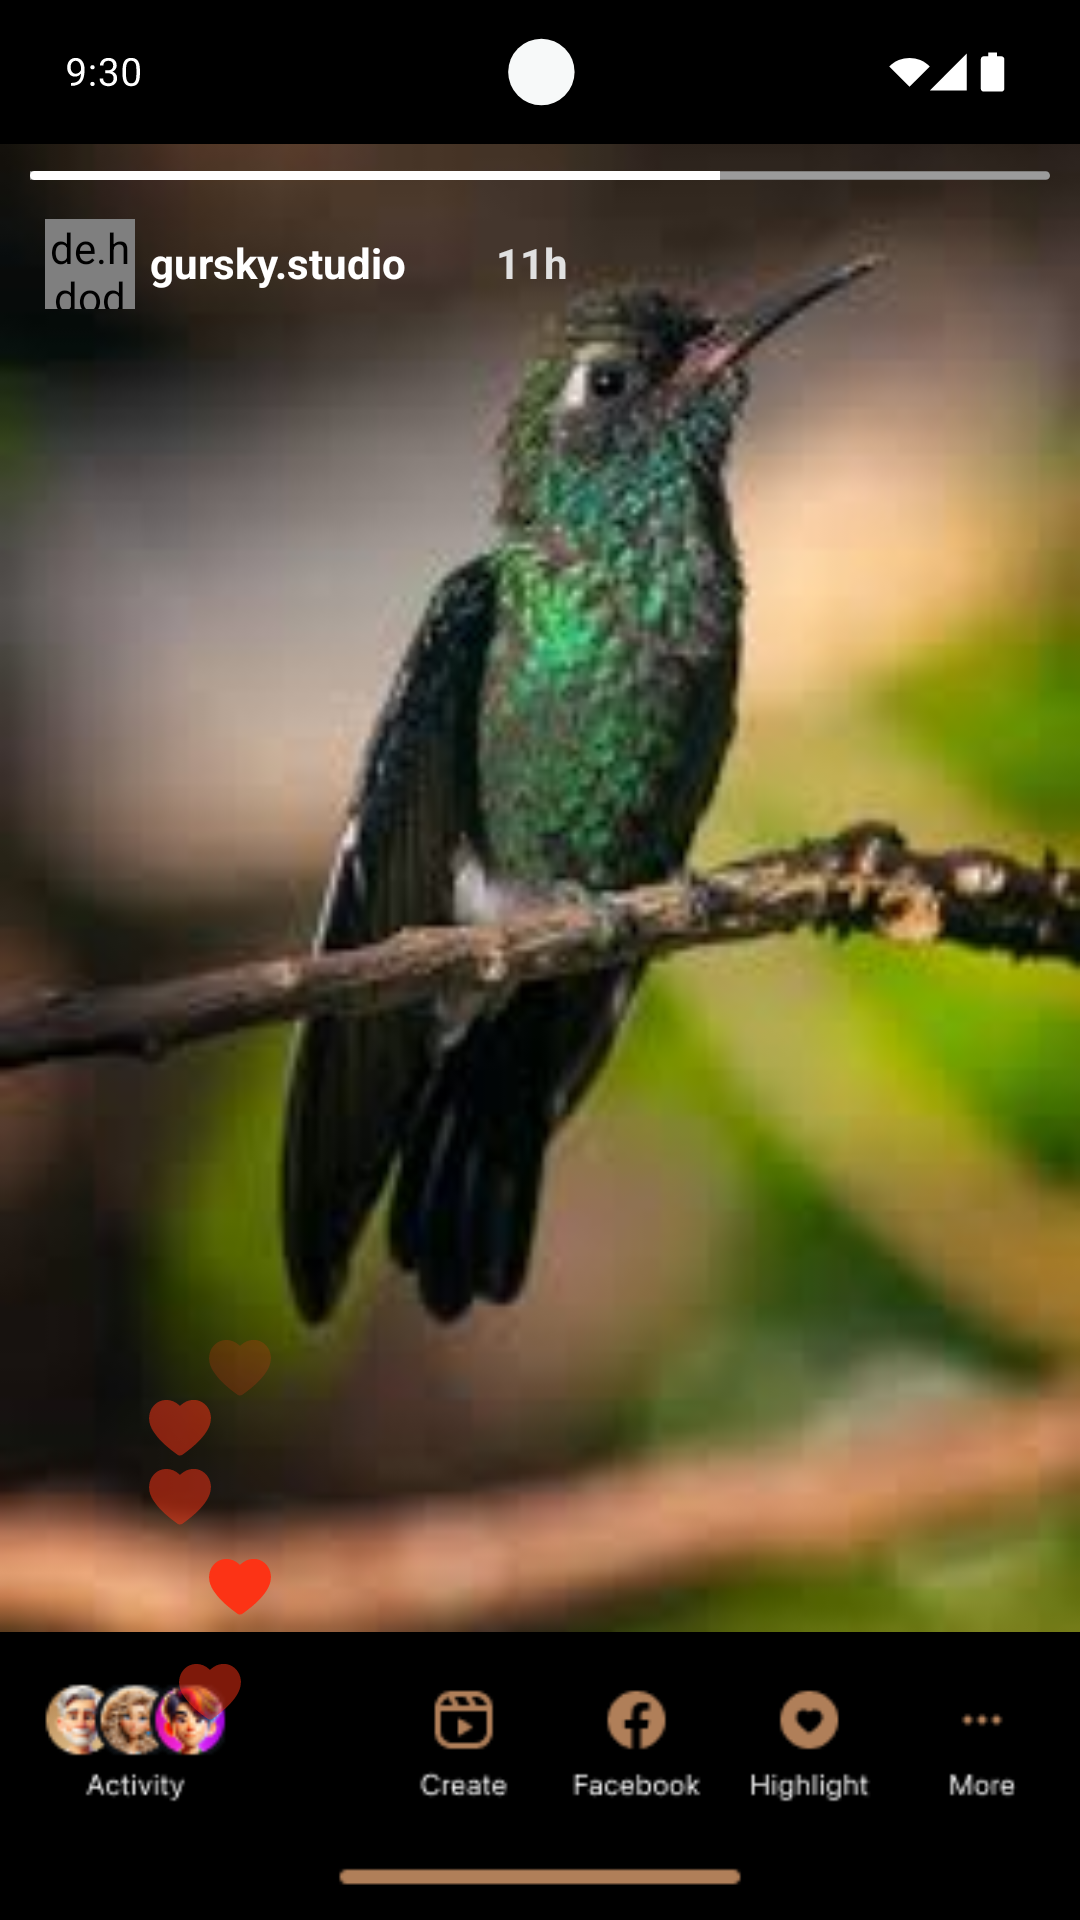

Icon click points for this 1080 x 1920 phone screenshot, format (x=x, y=y):
likered: (x=240, y=1587)
